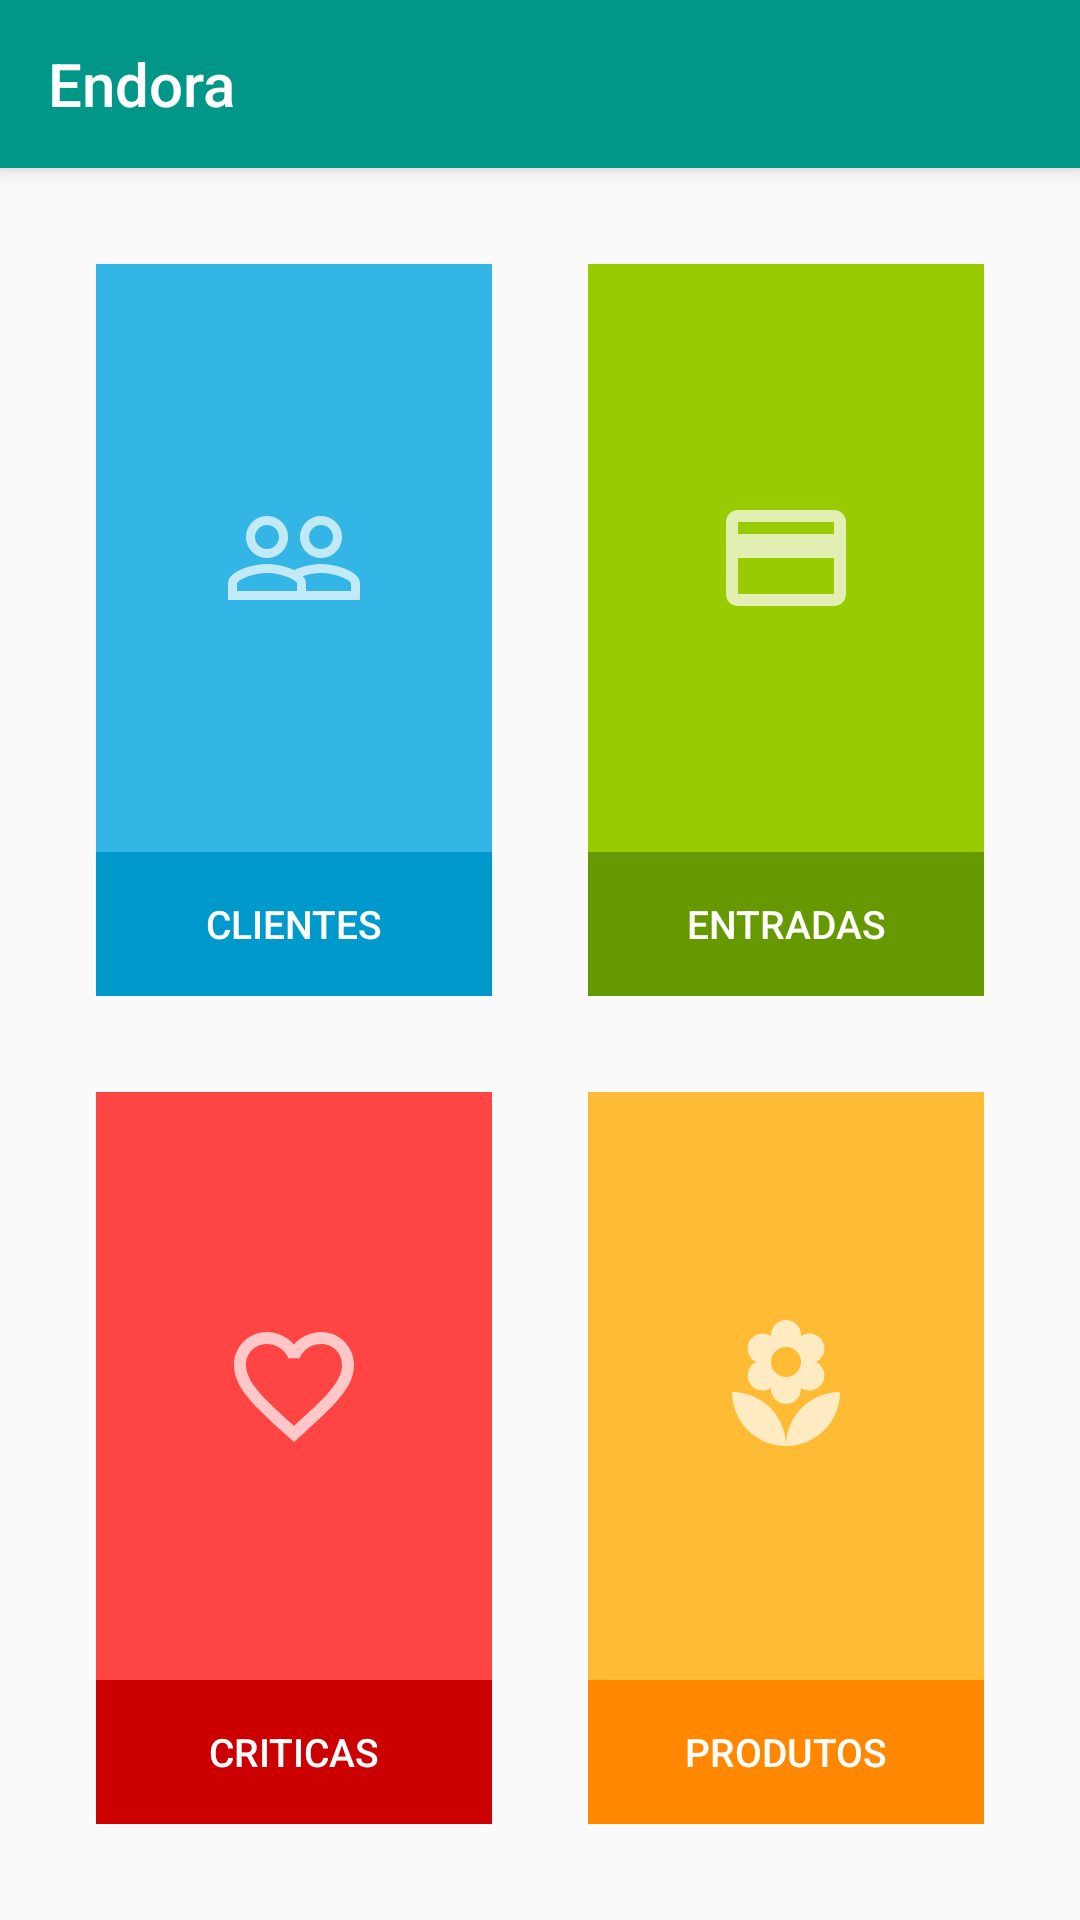

Icon bounding boxes for this 1080 × 1920 phone screenshot, format (x1, y1, x2, y2):
favorite border: (234, 1332, 354, 1442)
local florist: (732, 1320, 840, 1446)
payment: (726, 510, 846, 606)
people: (228, 516, 360, 600)
